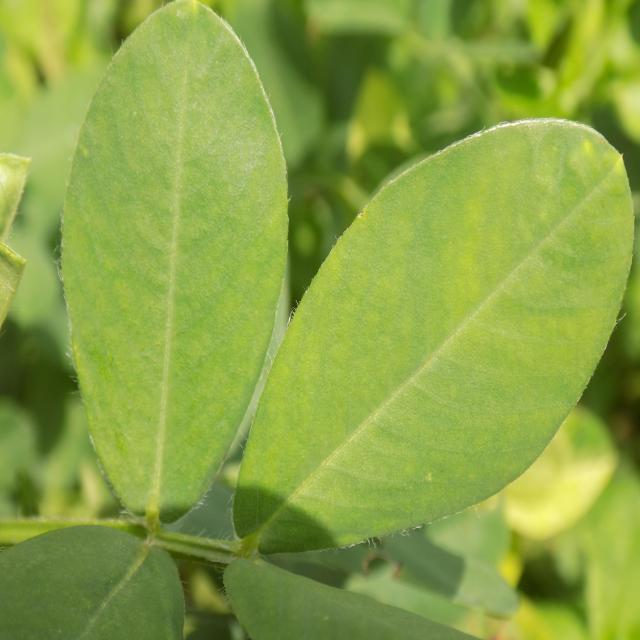Ground nut_healthy: (236, 116, 640, 555), (66, 0, 282, 534)
